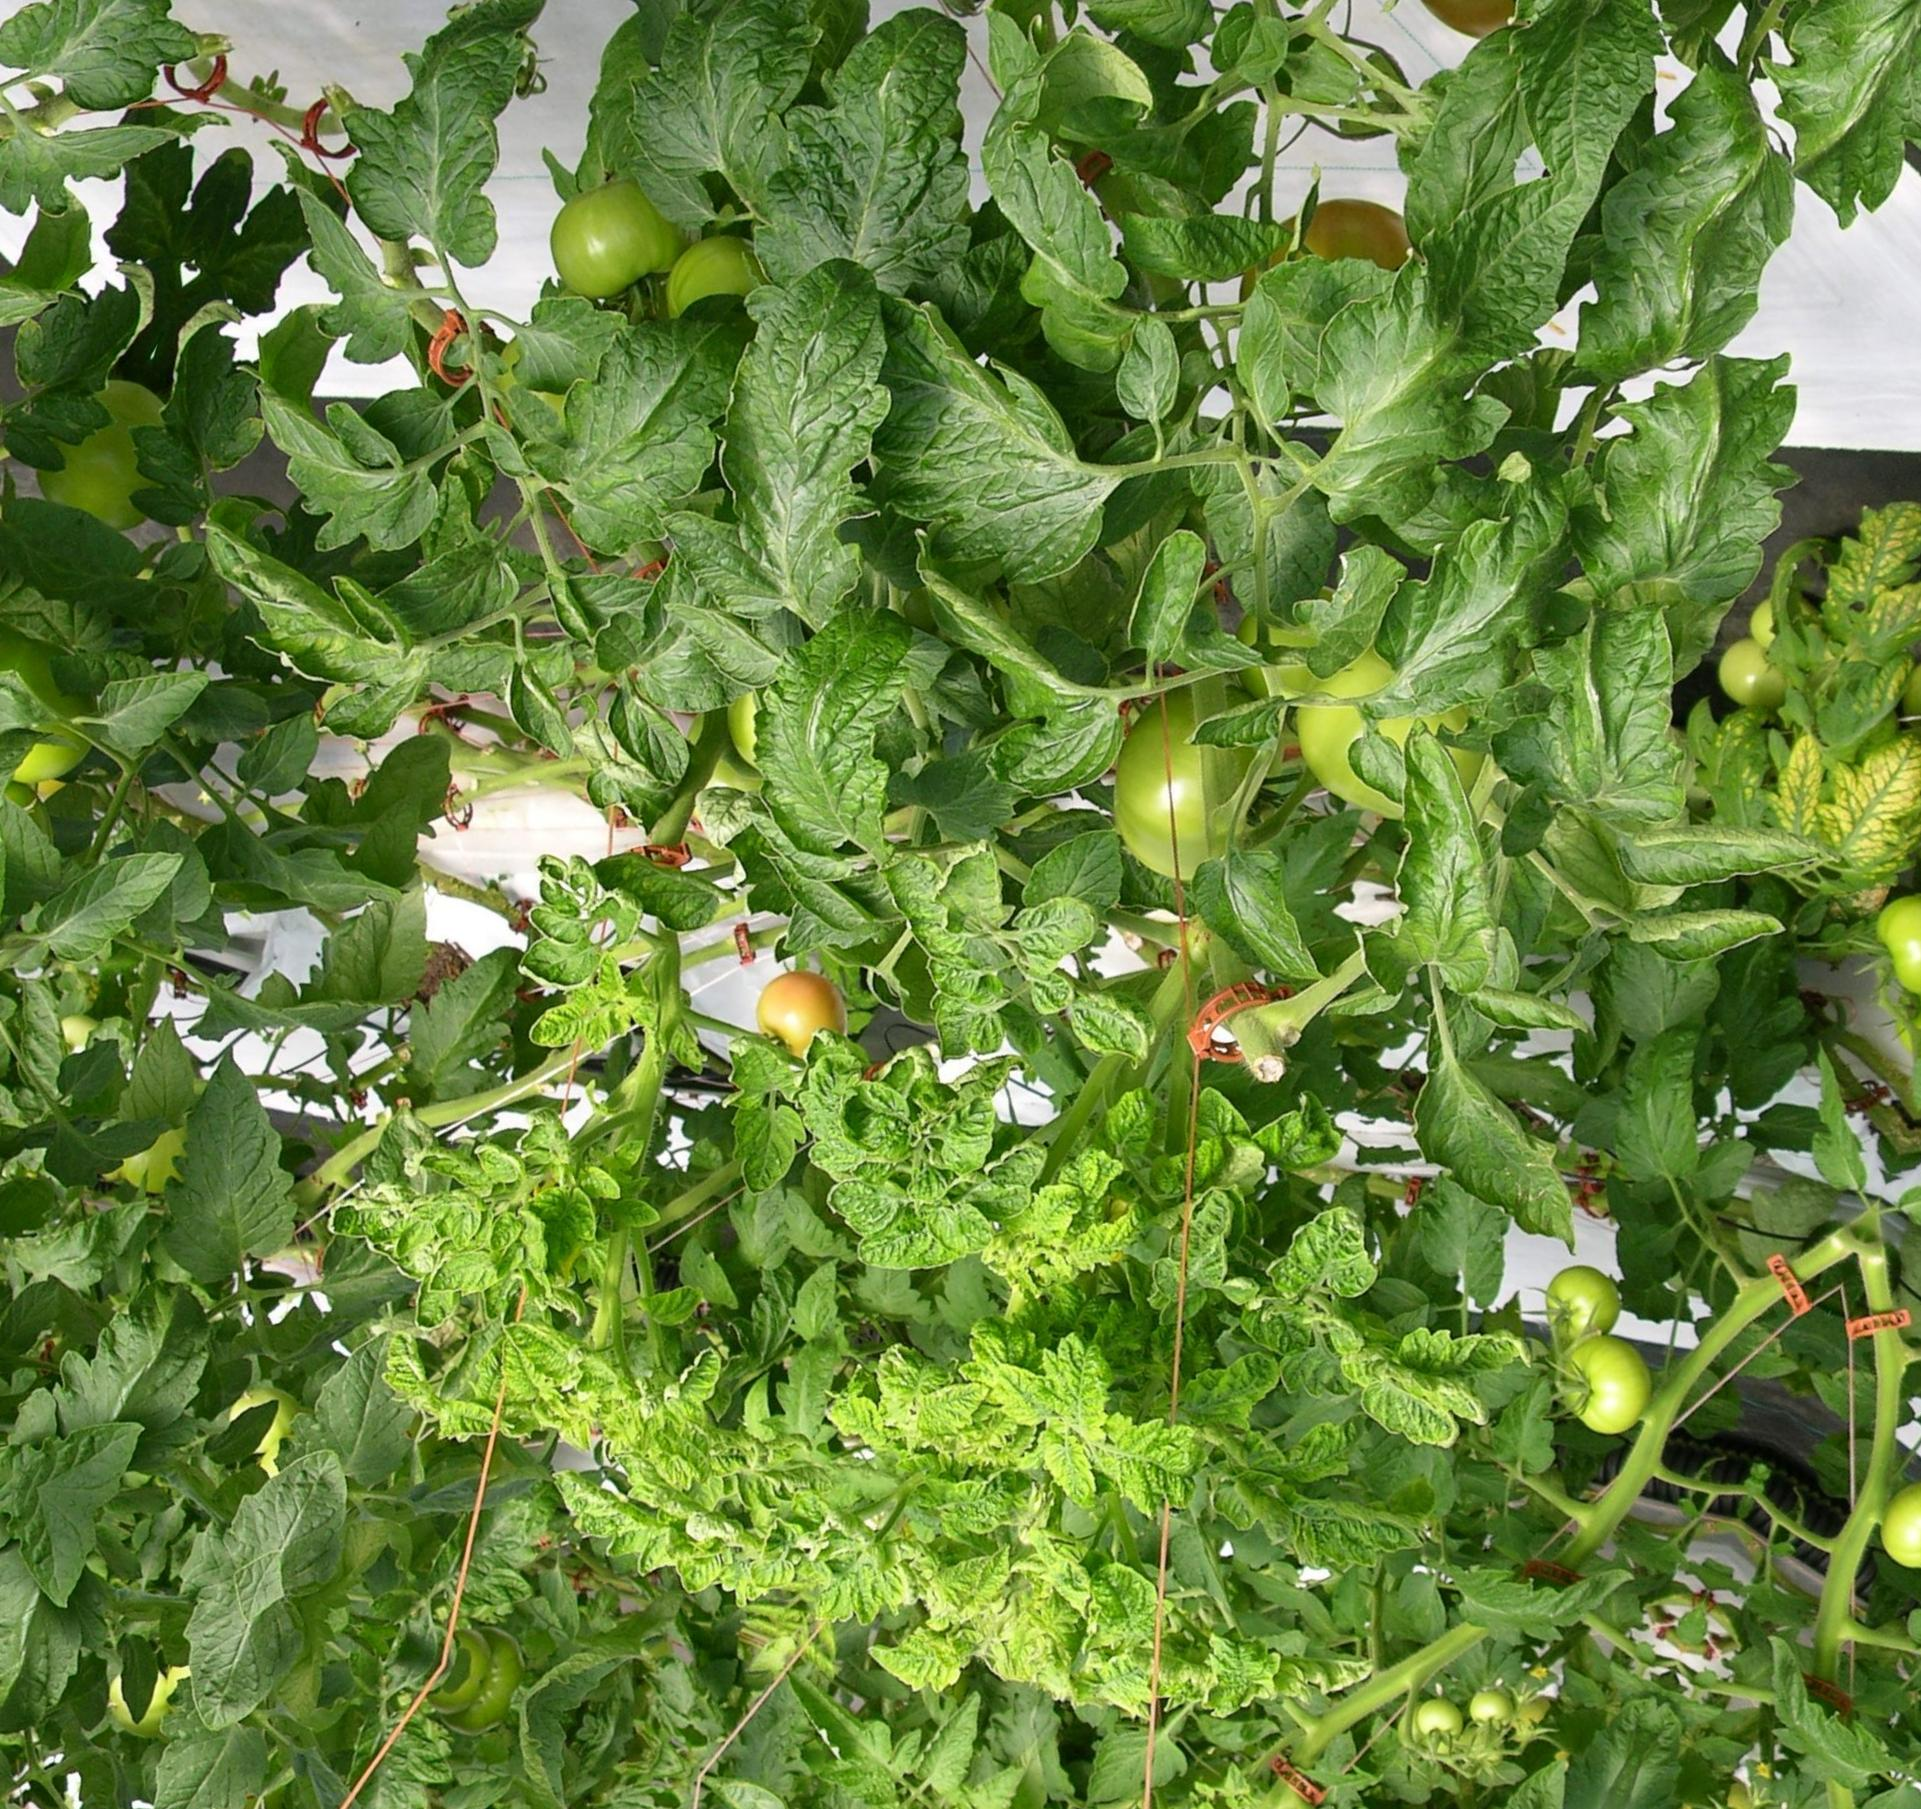Tomato leaf yellow virus: (646, 216, 959, 597), (705, 559, 1000, 889), (1732, 457, 1921, 768), (1309, 1250, 1544, 1477), (1243, 1170, 1425, 1336), (830, 1324, 1003, 1476), (1790, 714, 1921, 911), (1076, 1386, 1246, 1535), (966, 1134, 1102, 1314), (695, 1071, 828, 1221), (901, 1501, 1034, 1637), (498, 1166, 619, 1294), (1062, 1161, 1176, 1296), (501, 967, 627, 1086), (643, 1324, 750, 1447), (1023, 1323, 1130, 1438), (418, 1229, 508, 1314)
